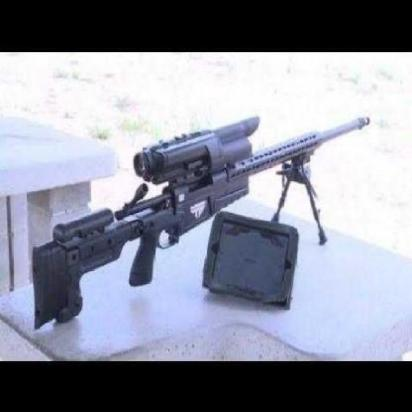Gun: (10, 94, 379, 324)
